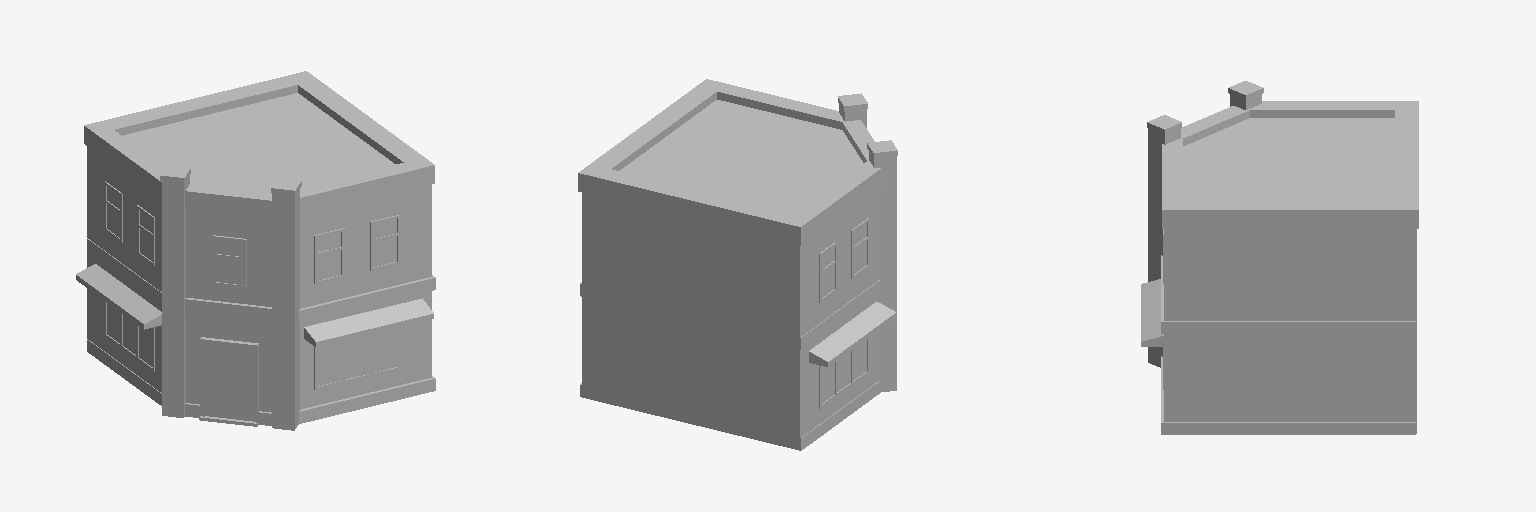
File: Building_Fruits  Shop.obj
3 renders of one model, left to right at view 1: azimuth 30°, elevation 25°; view 2: azimuth 150°, elevation 25°; view 3: azimuth 270°, elevation 25°, orthographic.
Size of the model in its own units: 1213 by 1161 by 1216.